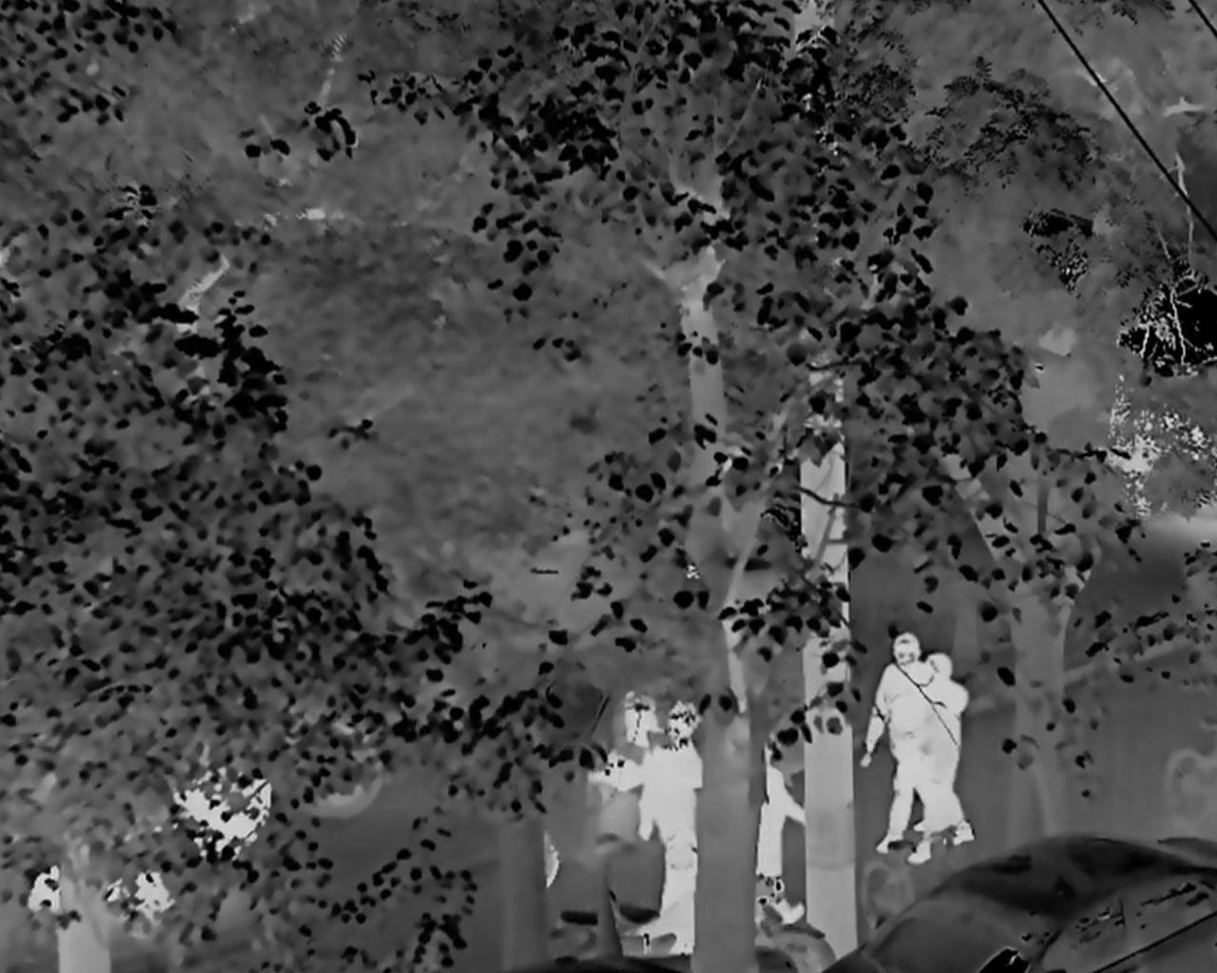person: (860, 632, 935, 852), (637, 700, 698, 955), (908, 654, 976, 865), (756, 744, 806, 925)
